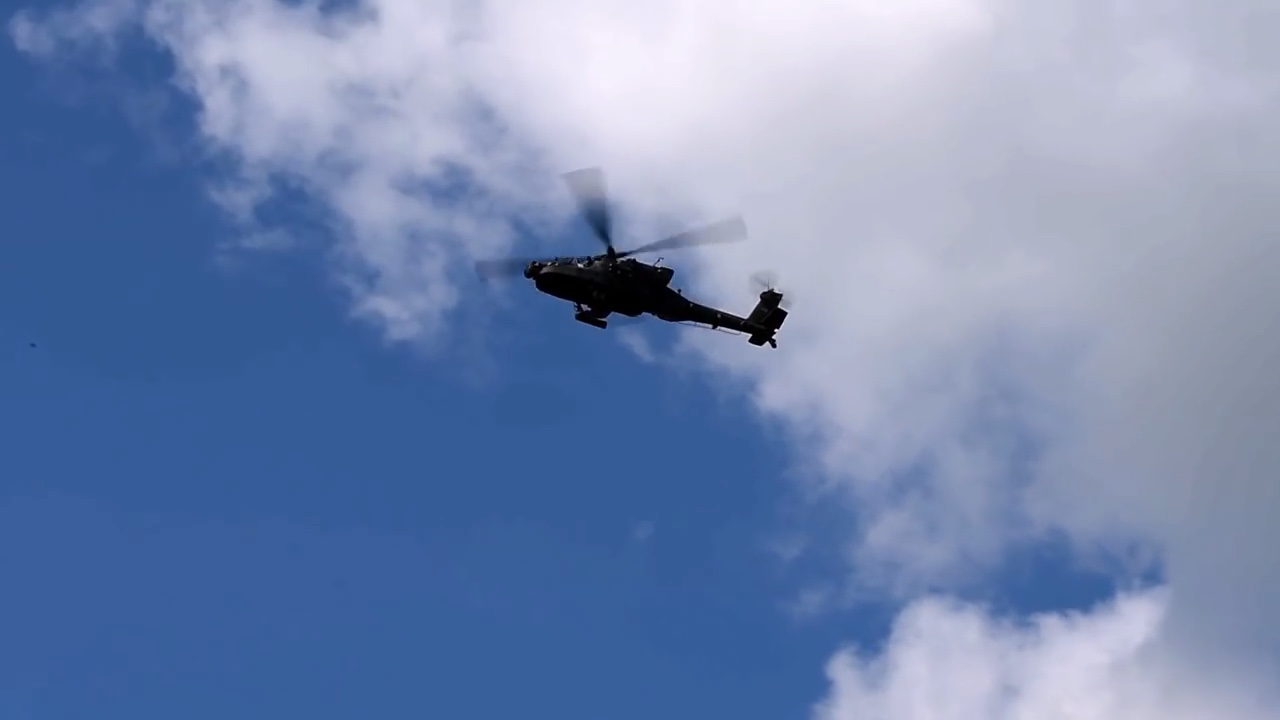ah64: (474, 166, 798, 351)
